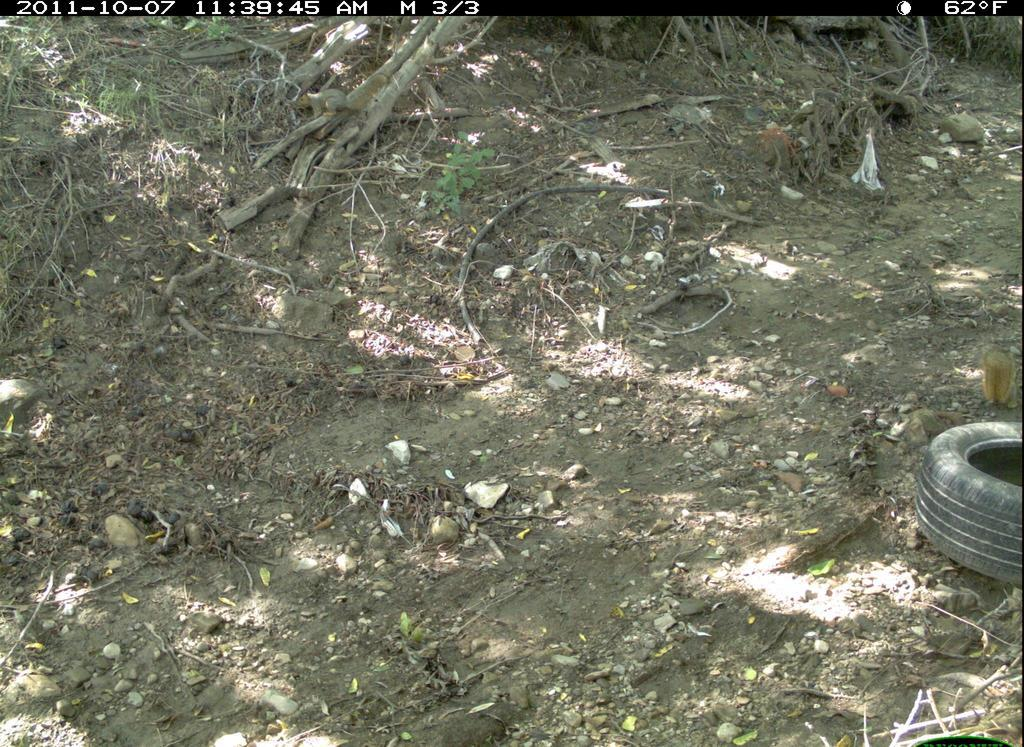squirrel: (977, 332, 1022, 424)
